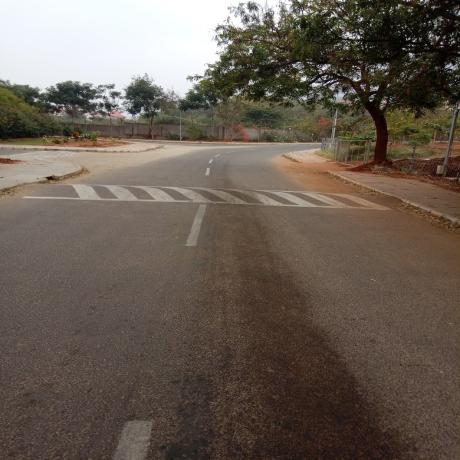Speed Bump: (23, 183, 404, 210)
